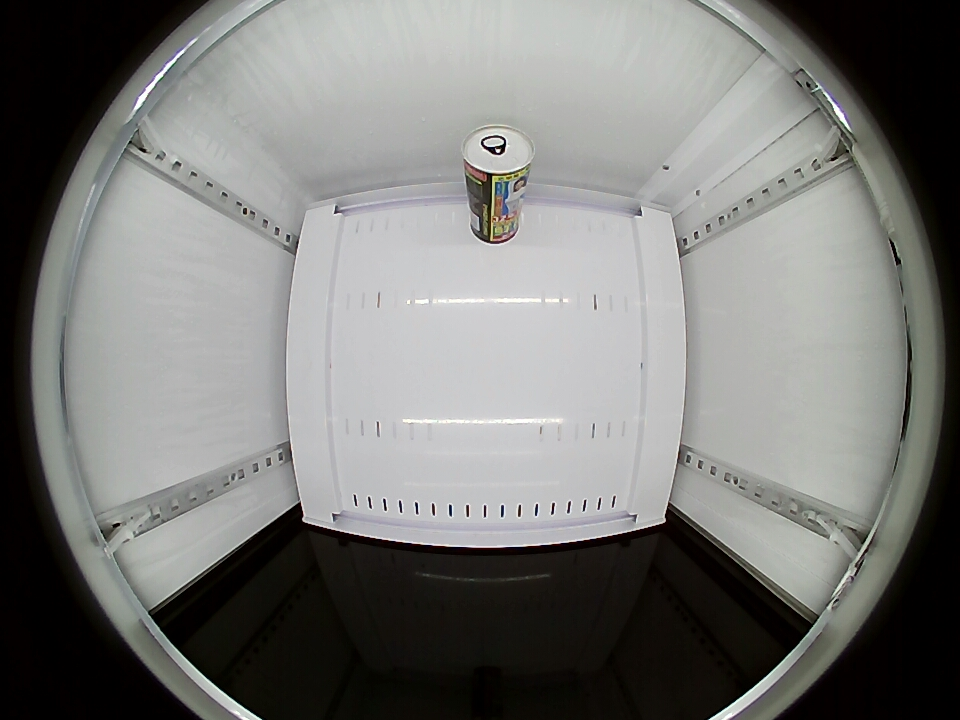yezhi: (461, 124, 535, 188)
